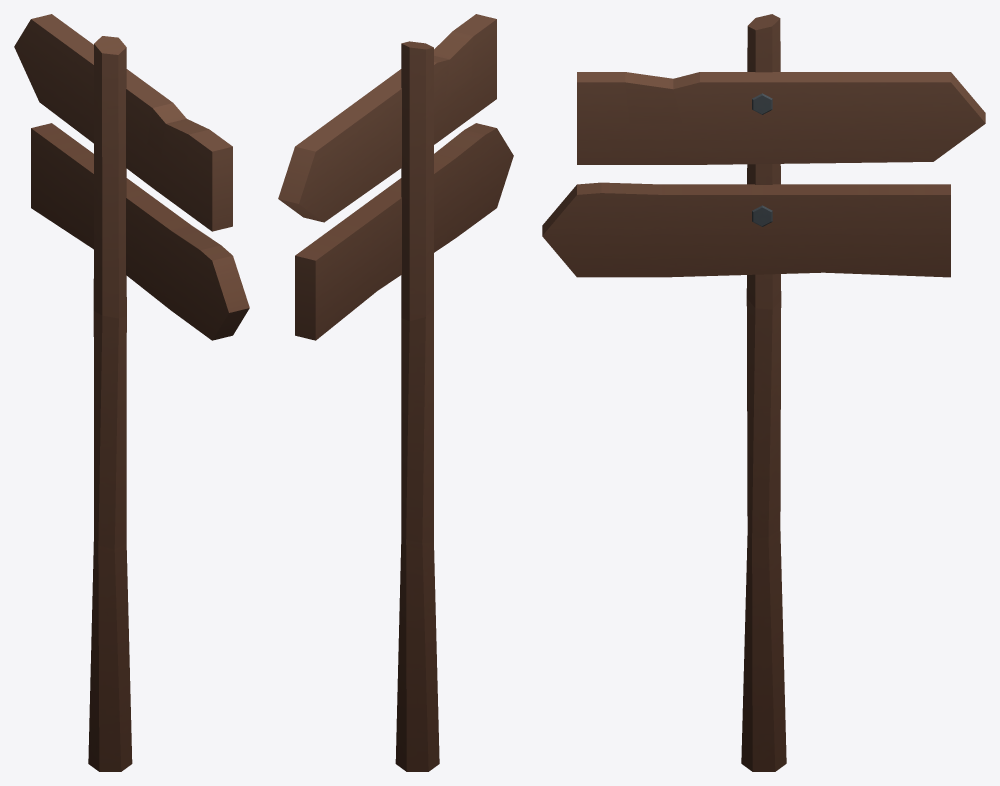
Rendered from znak3.fbx.
The picture shows the model from 3 angles, left to right: view 1: azimuth 30°, elevation 25°; view 2: azimuth 150°, elevation 25°; view 3: azimuth 270°, elevation 25°; orthographic projection. The views are drawn at different scales.
Visible parts, largest first — view 1: znak3; view 2: znak3; view 3: znak3.
Boxes of the visible parts, bbox=[...] form: znak3: bbox=[14, 14, 249, 771]; znak3: bbox=[278, 14, 513, 771]; znak3: bbox=[542, 14, 985, 771].
Bounding box in the file's own units: 14.5 × 201 × 108.
